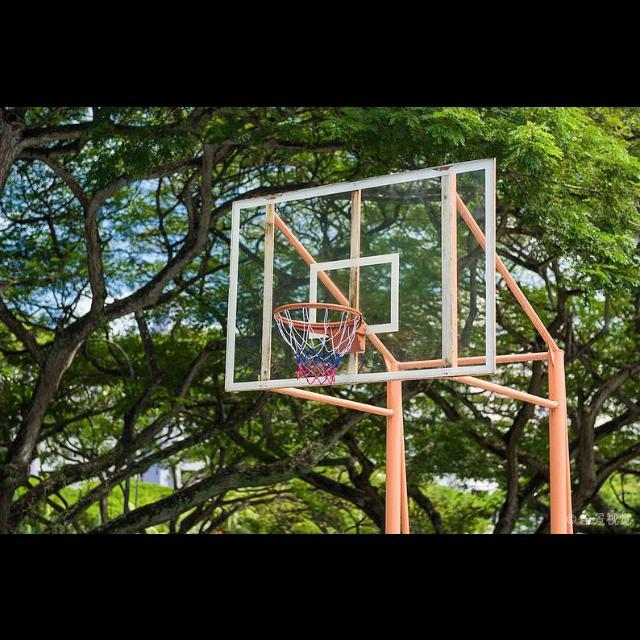rim: (274, 301, 364, 385)
